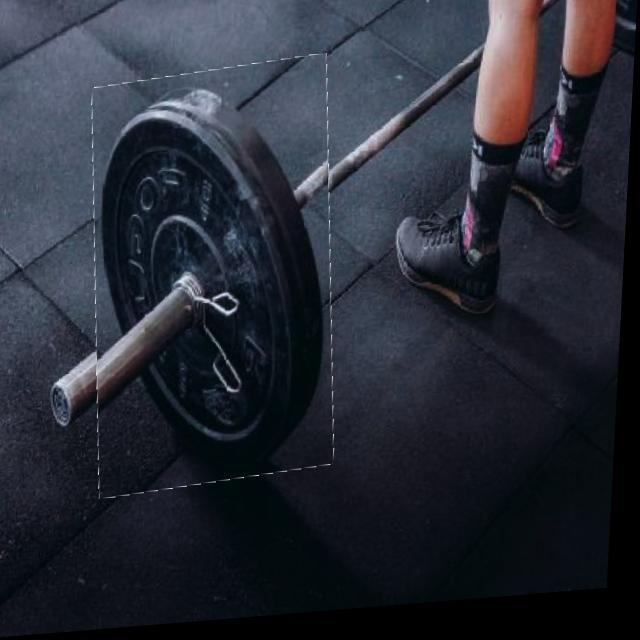barbell: (84, 62, 349, 500)
